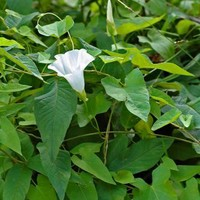haagwinde: (30, 73, 83, 163), (100, 66, 160, 130), (90, 135, 178, 172), (45, 46, 101, 102), (35, 141, 76, 200), (105, 10, 173, 36), (28, 13, 76, 42)
